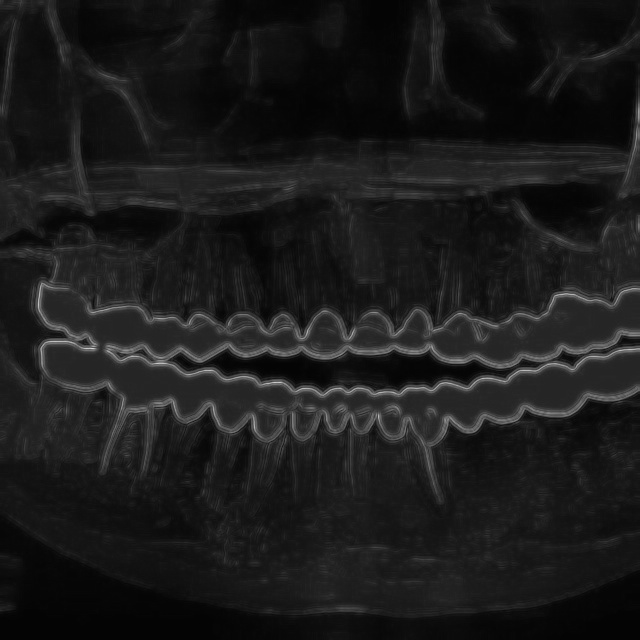Class 0- No endodontic treatment: (94, 347, 177, 516), (384, 379, 468, 537)
cavity: (255, 217, 448, 362), (170, 366, 321, 530), (14, 330, 104, 478), (420, 207, 490, 371), (197, 221, 268, 366), (309, 378, 382, 516)
